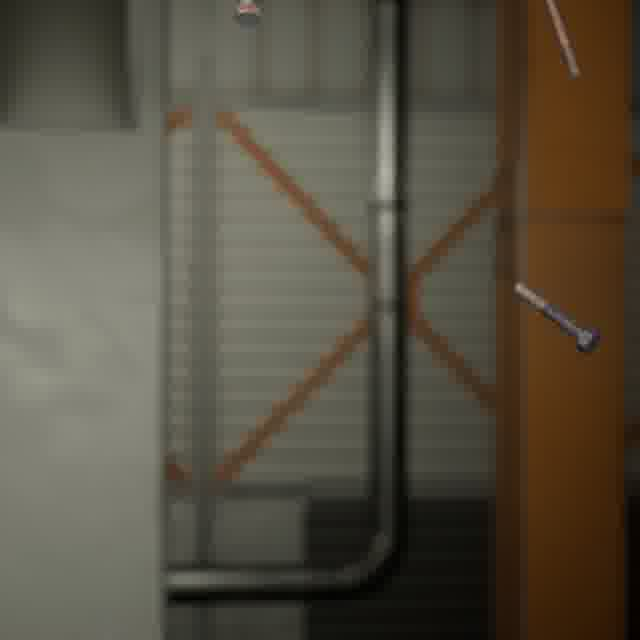bolt: (509, 277, 605, 358), (537, 0, 585, 81), (229, 0, 264, 31)
